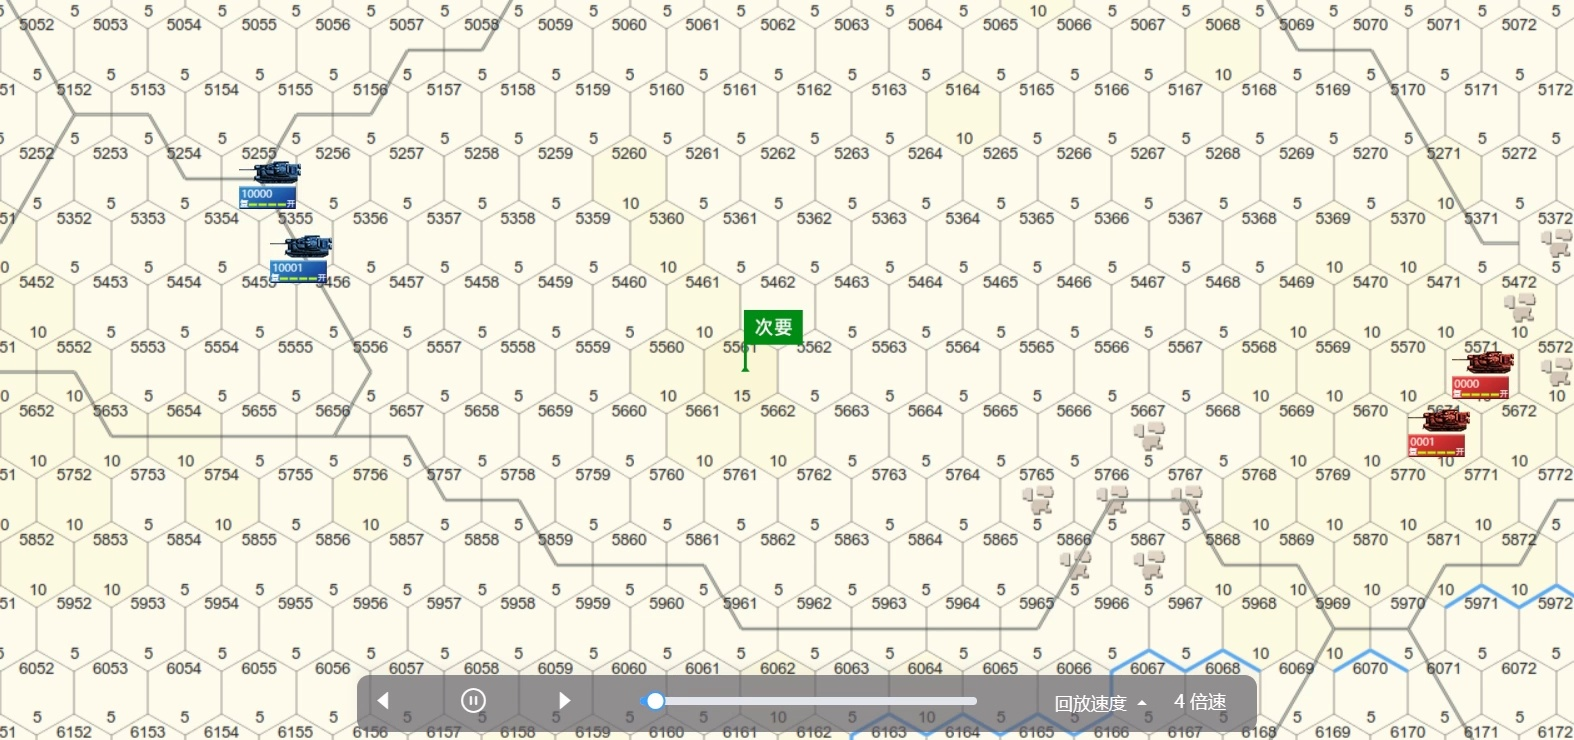blue_tank: (244, 160, 305, 208), (277, 239, 333, 288)
red_tank: (1411, 408, 1478, 451), (1468, 345, 1514, 400)
